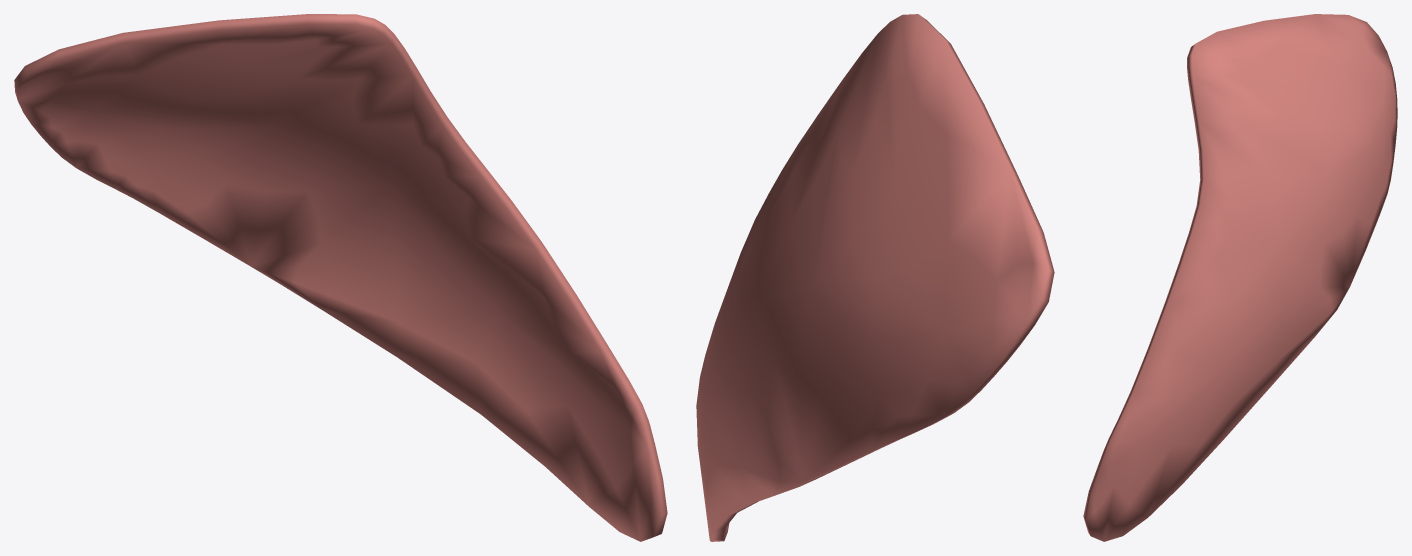
3 views of the same model, side by side, from view 1: azimuth 30°, elevation 25°; view 2: azimuth 150°, elevation 25°; view 3: azimuth 270°, elevation 25° (orthographic). The views are drawn at different scales.
Parts seen in each view (by area): view 1: ZA_e953b2e205309b0d; view 2: ZA_e953b2e205309b0d; view 3: ZA_e953b2e205309b0d.
Boxes of the visible parts, box(x1,y1,x2,y2) form: ZA_e953b2e205309b0d: box(14, 14, 667, 541); ZA_e953b2e205309b0d: box(696, 14, 1054, 541); ZA_e953b2e205309b0d: box(1083, 14, 1397, 541).
Bounding box in the file's own units: 0.0241 × 0.0267 × 0.0184.
